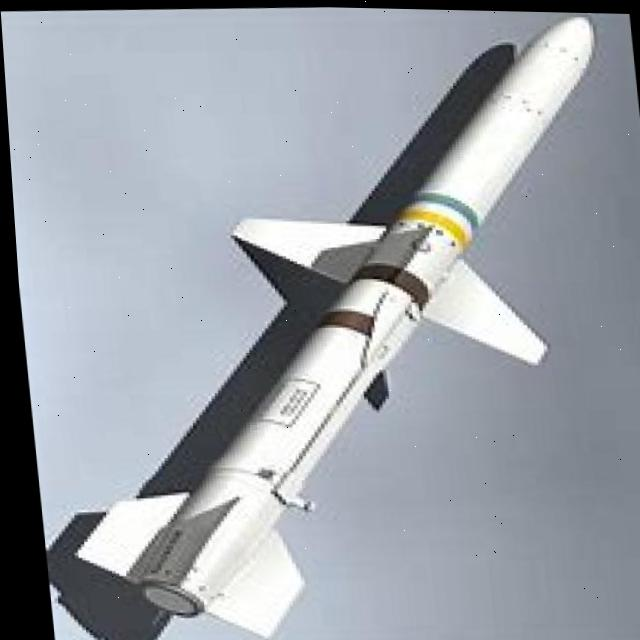missile: (29, 5, 640, 632)
